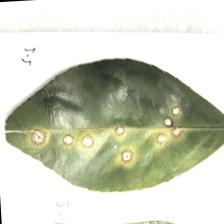canker: (24, 100, 195, 168)
